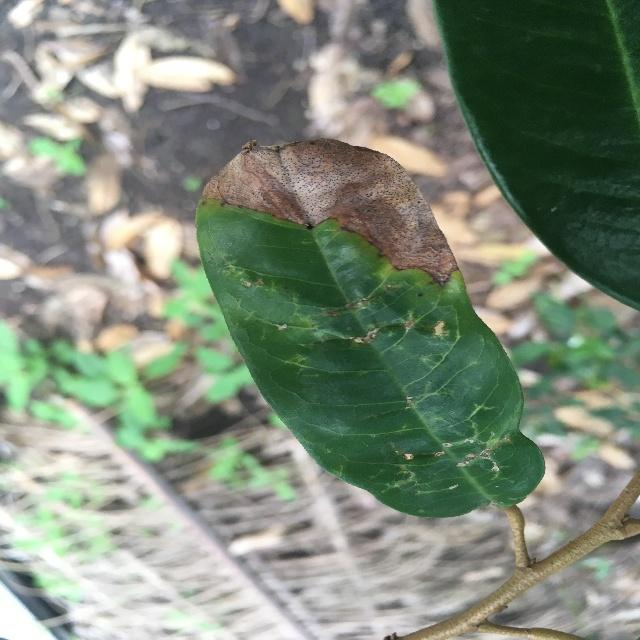Leaf Blight: (188, 135, 551, 527)
